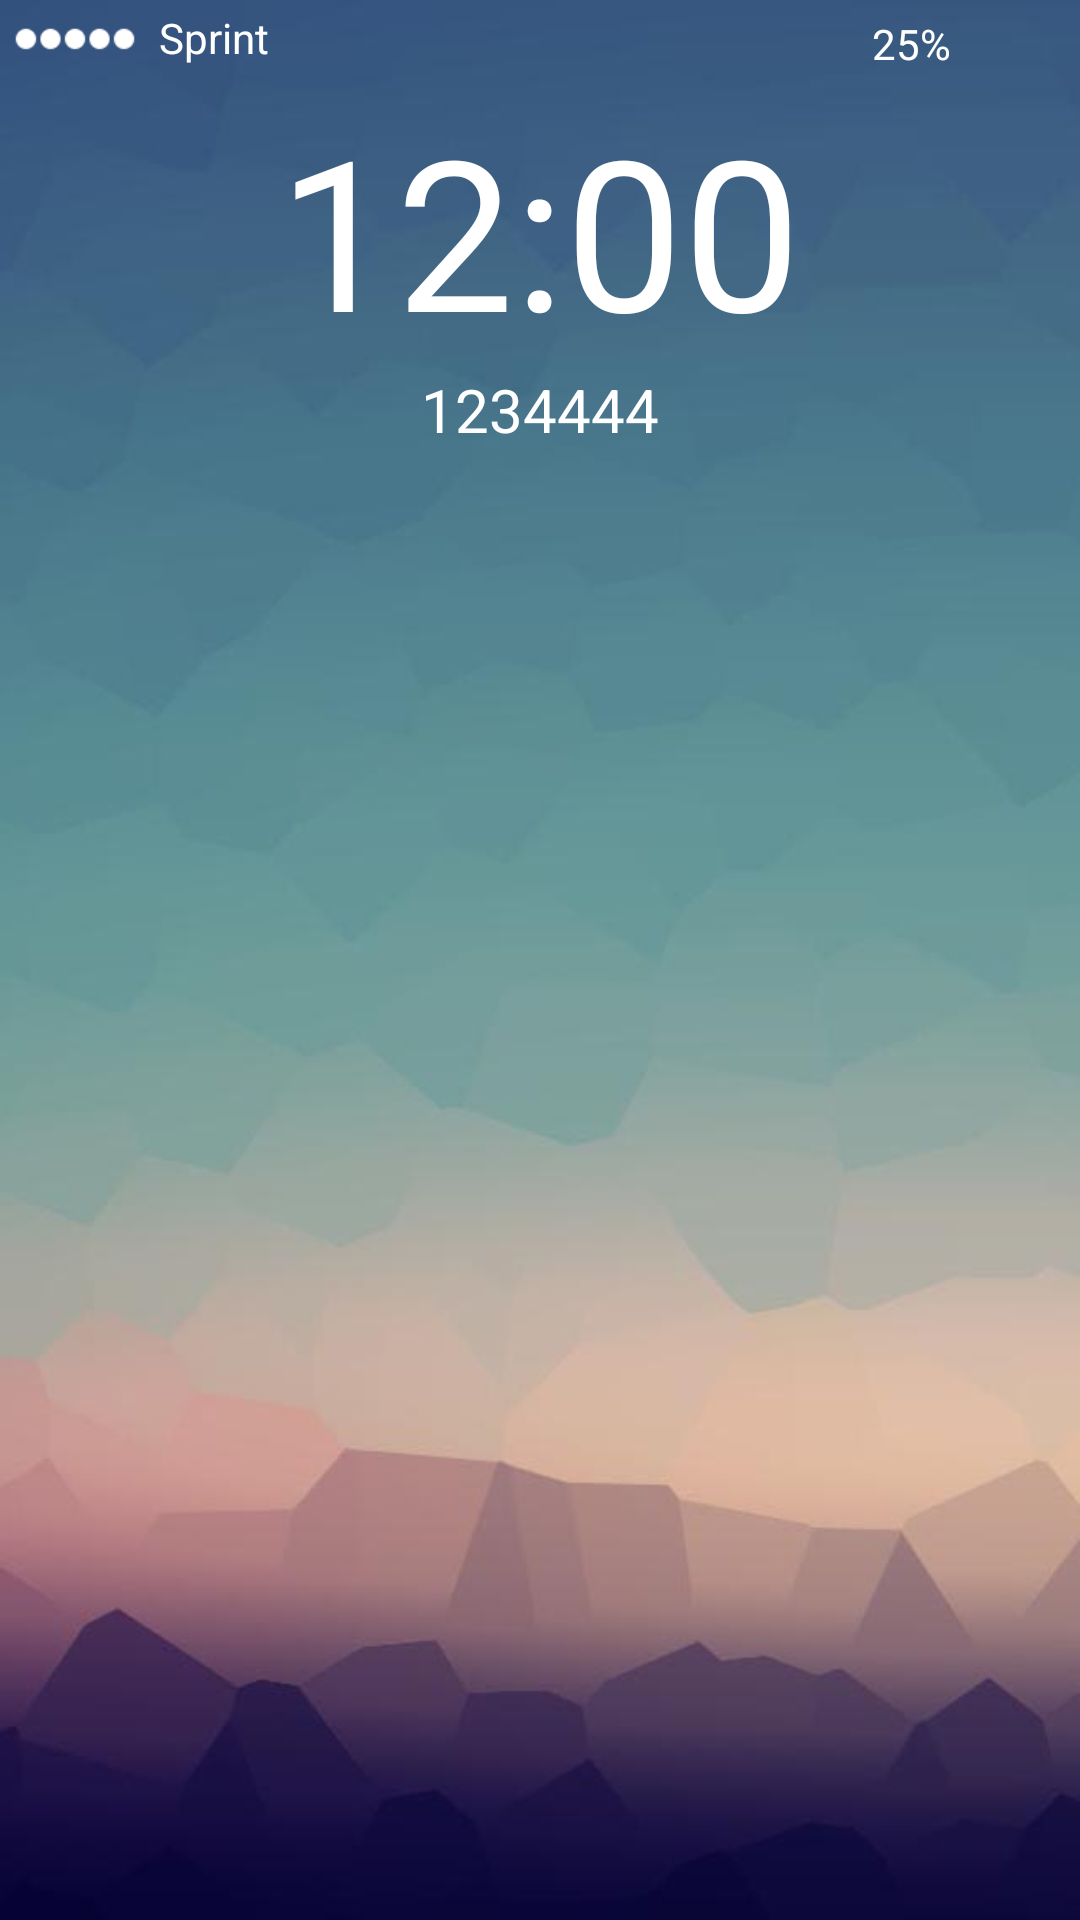

Screen size 1080*1920. Icon name, then its box in pixels as (left=x1, top=y1, right=x2, bottom=y2):
network: (left=15, top=28, right=135, bottom=50)
